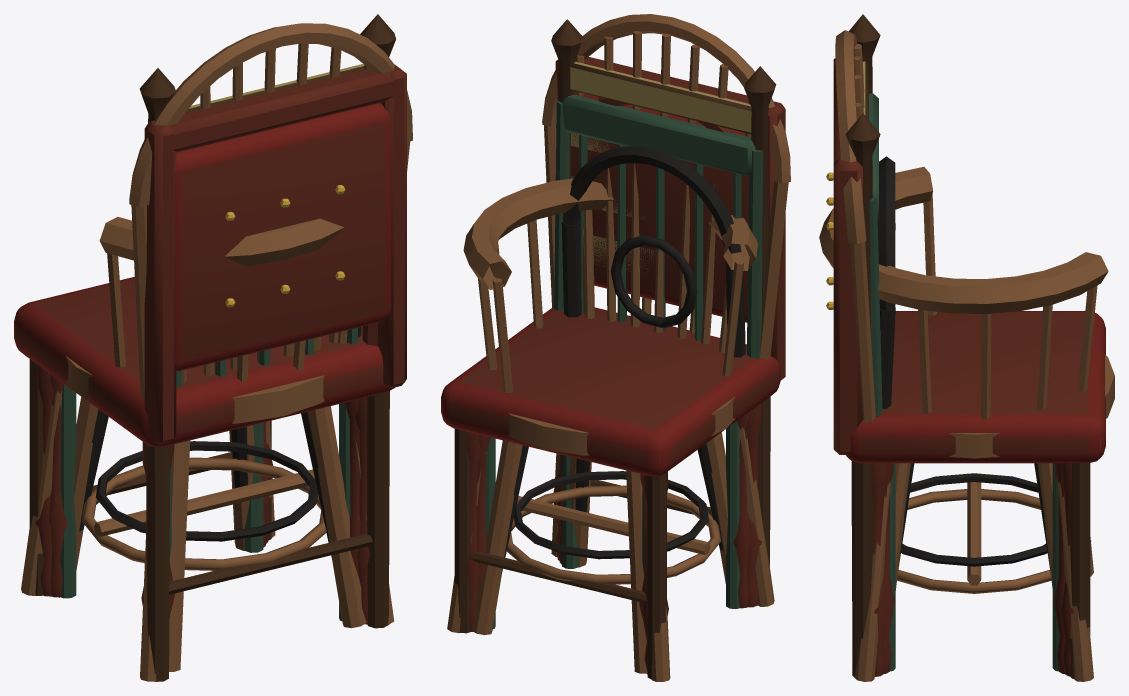
Rendered from chairs.glb.
3 renders of one model, left to right at view 1: azimuth 30°, elevation 25°; view 2: azimuth 150°, elevation 25°; view 3: azimuth 270°, elevation 25°, orthographic. The views are drawn at different scales.
Parts seen in each view (by area): view 1: chair_leather, chair_captains, chair_ladderback, chair_windsor, chair_bentwood, chair_spindle, chair_wheelback; view 2: chair_leather, chair_captains, chair_windsor, chair_ladderback, chair_spindle, chair_bentwood, chair_wheelback; view 3: chair_leather, chair_captains, chair_windsor, chair_ladderback, chair_bentwood, chair_spindle, chair_wheelback.
Boxes of the visible parts, <box> form: chair_leather: <box>14,64,406,655</box>; chair_captains: <box>66,217,366,671</box>; chair_ladderback: <box>29,14,395,681</box>; chair_windsor: <box>21,23,412,681</box>; chair_bentwood: <box>79,327,361,559</box>; chair_spindle: <box>60,327,357,620</box>; chair_wheelback: <box>49,323,378,610</box>; chair_leather: <box>441,57,785,674</box>; chair_captains: <box>463,178,757,673</box>; chair_windsor: <box>442,14,790,681</box>; chair_ladderback: <box>454,19,776,679</box>; chair_spindle: <box>485,94,762,628</box>; chair_bentwood: <box>501,146,745,574</box>; chair_wheelback: <box>476,97,749,619</box>; chair_leather: <box>826,58,1105,676</box>; chair_captains: <box>819,167,1114,593</box>; chair_windsor: <box>835,30,1100,681</box>; chair_ladderback: <box>845,14,1090,678</box>; chair_bentwood: <box>877,156,1050,571</box>; chair_spindle: <box>869,93,1059,671</box>; chair_wheelback: <box>883,463,1065,673</box>.
Bounding box in the file's own units: 0.522 × 1.1 × 0.5049.
